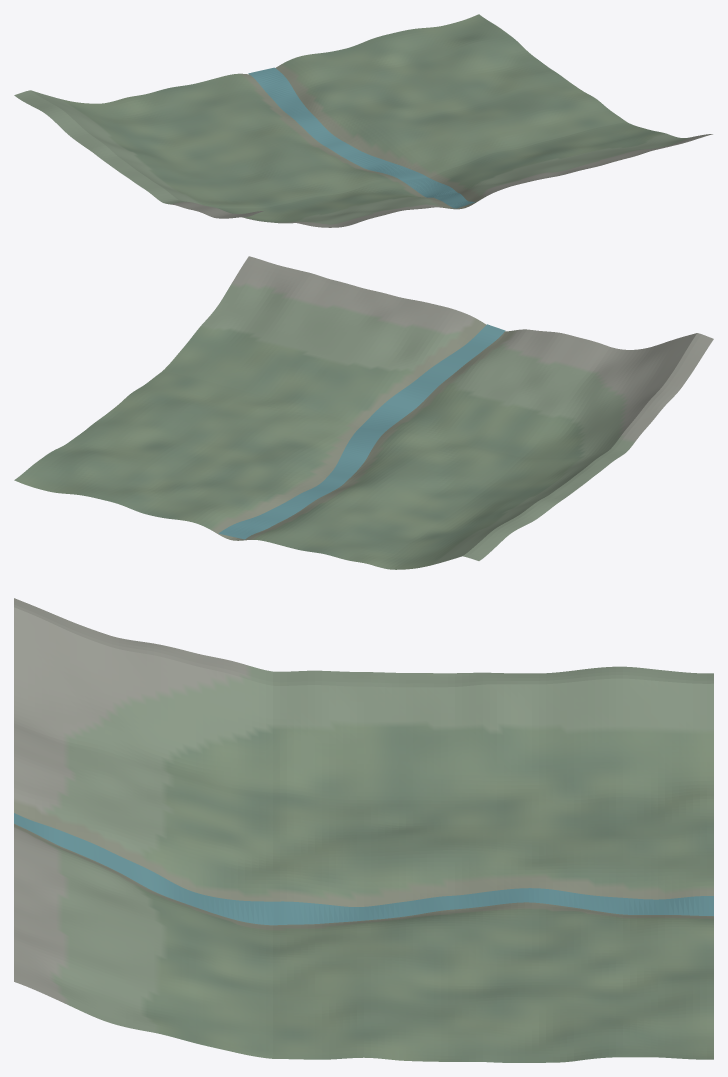
The model's file is Ravan_Originalni_Teren_Dolina.glb.
The picture shows the model from 3 angles, top to bottom: view 1: azimuth 30°, elevation 25°; view 2: azimuth 150°, elevation 25°; view 3: azimuth 270°, elevation 25°; orthographic projection. The views are drawn at different scales.
Visible parts, largest first — view 1: Ravan_Dolina_Original_Terrain, Ravan_Reka_Original; view 2: Ravan_Dolina_Original_Terrain, Ravan_Reka_Original; view 3: Ravan_Dolina_Original_Terrain, Ravan_Reka_Original.
Boxes of the visible parts, x1,y1,x2,y2 form: Ravan_Dolina_Original_Terrain: (14, 14, 712, 227); Ravan_Reka_Original: (248, 67, 475, 208); Ravan_Dolina_Original_Terrain: (14, 256, 713, 569); Ravan_Reka_Original: (219, 324, 505, 539); Ravan_Dolina_Original_Terrain: (14, 598, 713, 1062); Ravan_Reka_Original: (14, 813, 713, 925).
Bounding box in the file's own units: 144 × 29.11 × 126.
